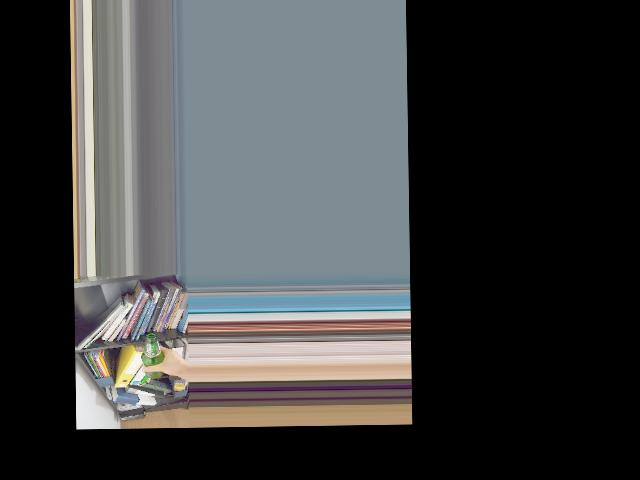beer: (141, 333, 164, 379)
